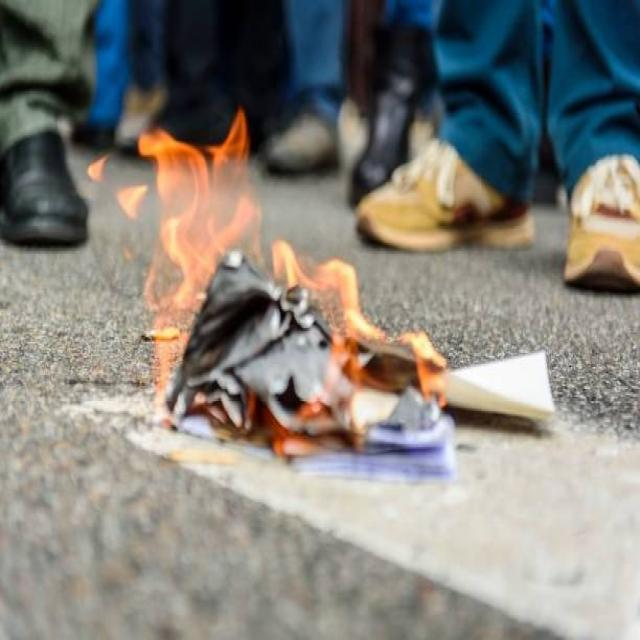fire: (138, 108, 447, 456)
